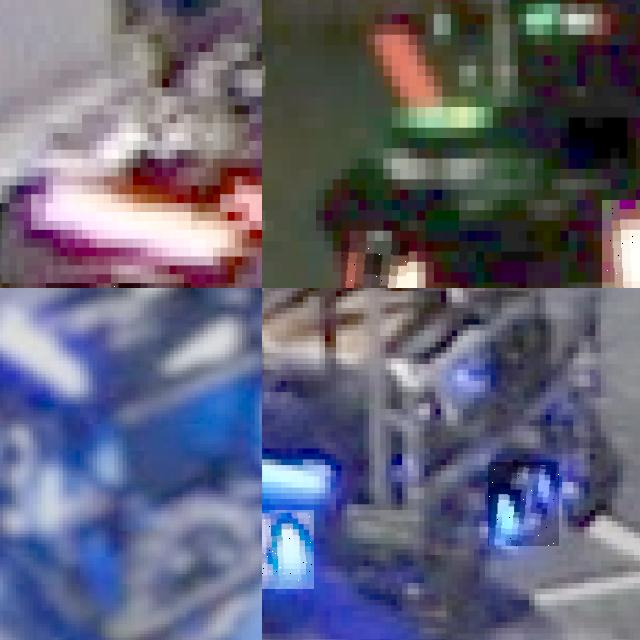B2: (488, 462, 559, 546), (262, 510, 314, 588)
Rs: (602, 200, 640, 288), (341, 241, 408, 288)
